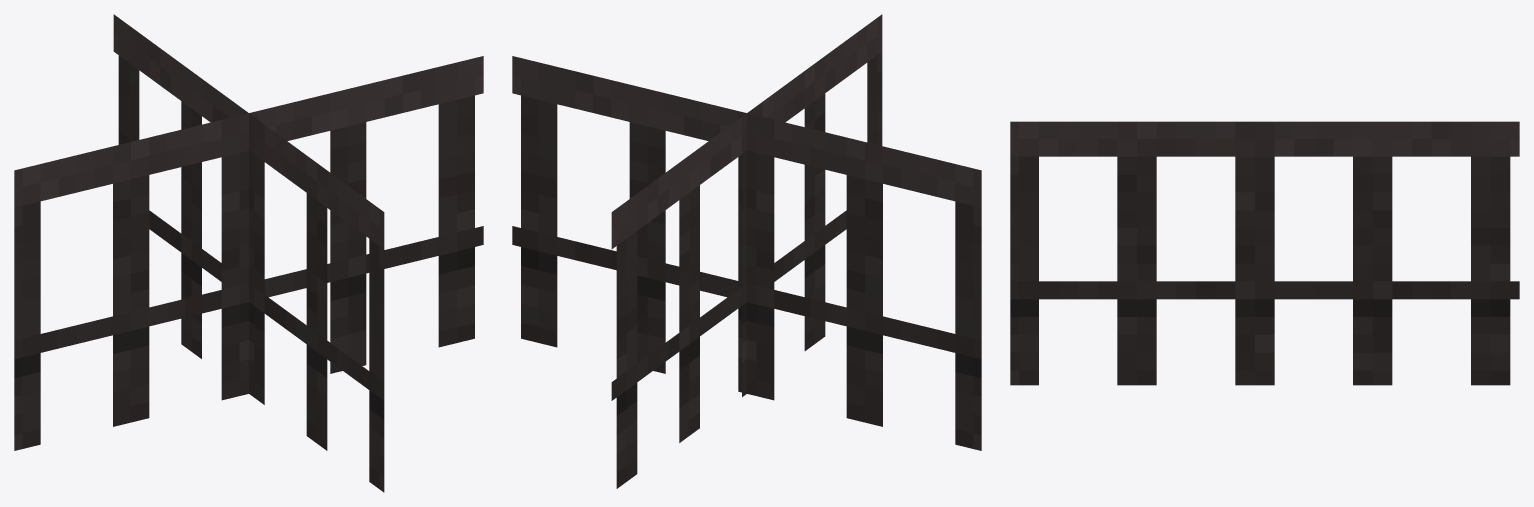
Rendered from tree_pine_small.glb.
3 views of the same model, side by side, from view 1: azimuth 30°, elevation 25°; view 2: azimuth 150°, elevation 25°; view 3: azimuth 270°, elevation 25° (orthographic). The views are drawn at different scales.
Visible parts, largest first — view 1: tree-pine-small; view 2: tree-pine-small; view 3: tree-pine-small.
Part boxes in pixels (<box>): tree-pine-small: <box>14,14,483,492</box>; tree-pine-small: <box>512,14,981,488</box>; tree-pine-small: <box>1010,121,1519,385</box>.
Size of the model in its own units: 0.7 by 0.4 by 0.7.
1 material, 1 textured.
